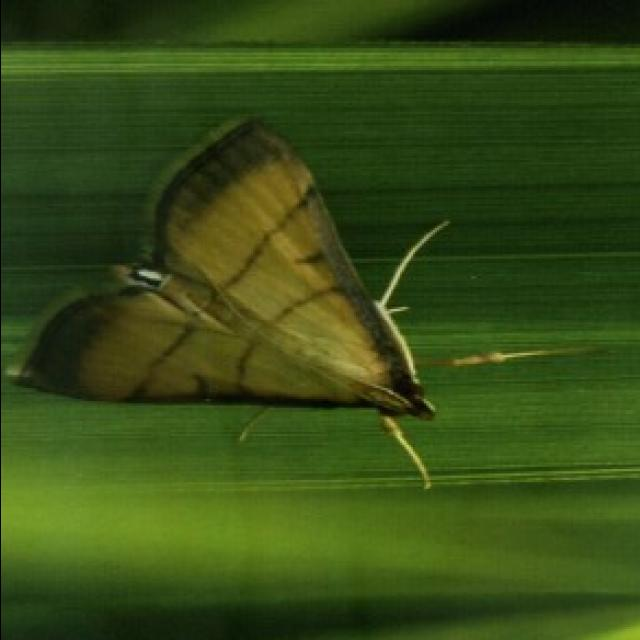rice leaf roller: (7, 121, 447, 487), (425, 351, 559, 364)
